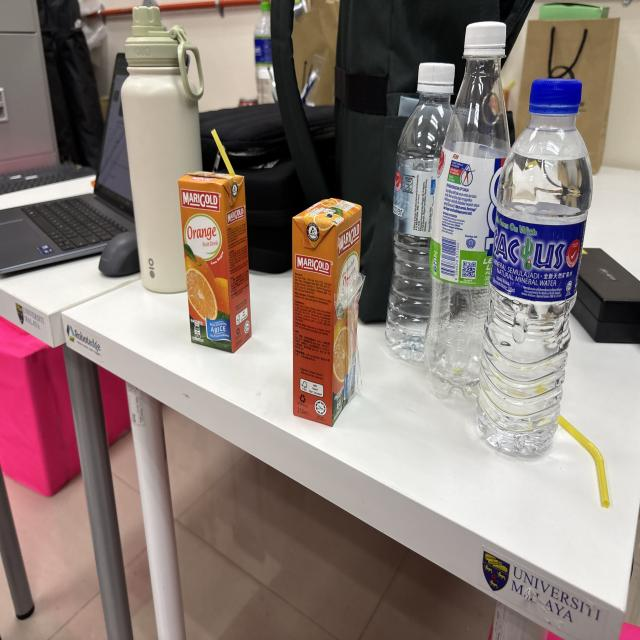drink_carton: (288, 188, 371, 436), (179, 124, 259, 353)
plastic_bottle: (464, 68, 603, 471), (418, 12, 519, 420), (382, 55, 470, 378)
